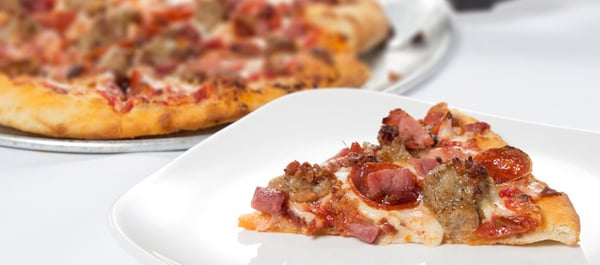curry: (1, 2, 598, 253)
sandwich: (0, 0, 390, 140), (237, 101, 581, 246)
